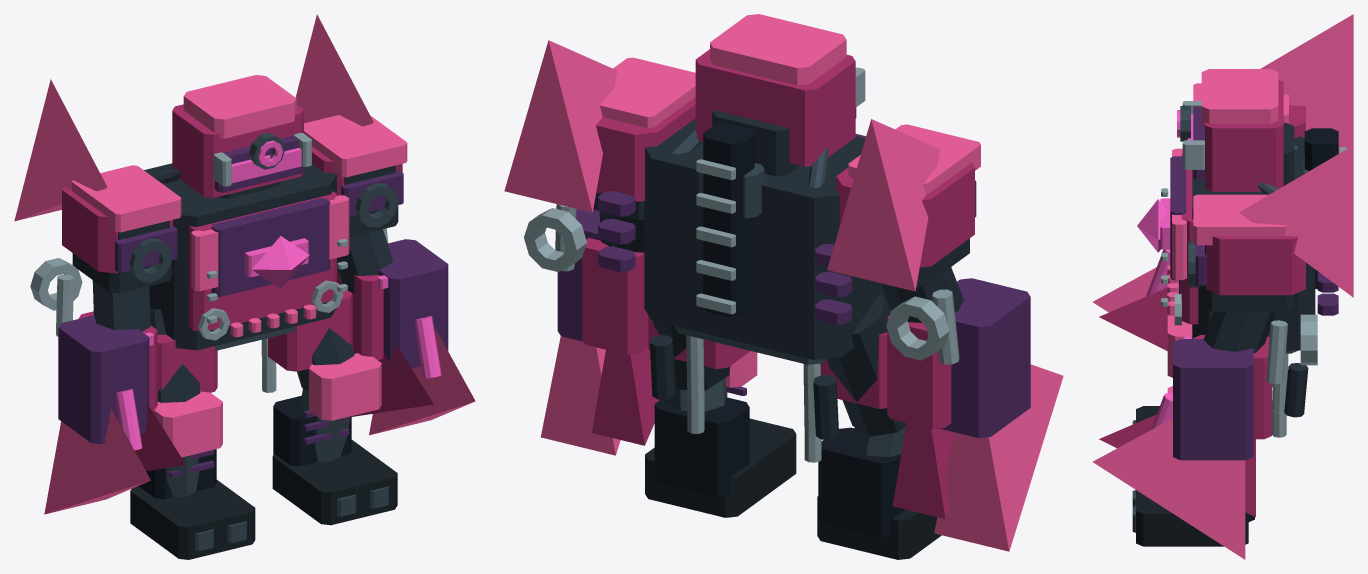
File: enemy_striker.obj
The picture shows the model from 3 angles, left to right: view 1: azimuth 30°, elevation 25°; view 2: azimuth 150°, elevation 25°; view 3: azimuth 270°, elevation 25°; orthographic projection. The views are drawn at different scales.
Size of the model in its own units: 2.12 by 2.15 by 1.23.
